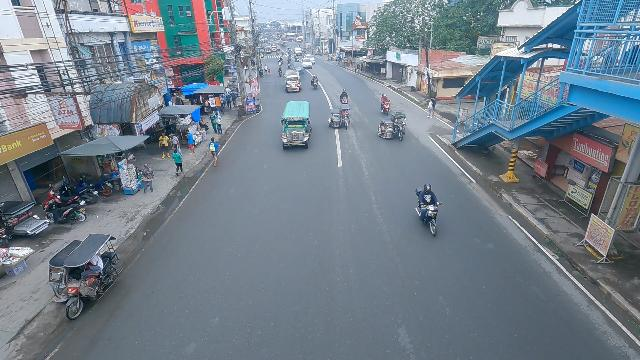car: (292, 61, 305, 74), (299, 57, 312, 69), (305, 54, 316, 65)
jeepney: (279, 100, 312, 152), (284, 70, 302, 94), (257, 48, 264, 58), (271, 45, 278, 53), (265, 46, 271, 53)
motorcycle: (414, 183, 443, 240), (378, 93, 393, 115), (339, 89, 350, 104), (311, 75, 319, 90), (278, 67, 283, 77), (278, 56, 283, 65), (287, 60, 291, 69), (294, 55, 299, 62), (288, 55, 291, 61), (288, 48, 290, 54)
